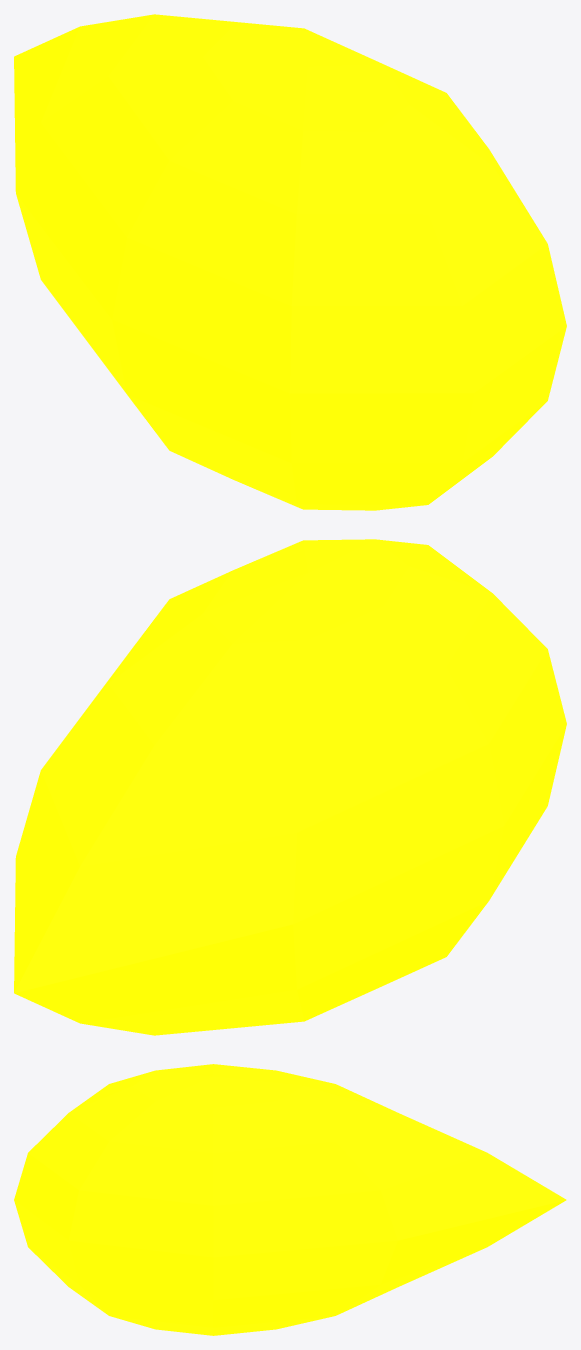
File: CannonBall.fbx
3 renders of one model, top to bottom at view 1: azimuth 30°, elevation 25°; view 2: azimuth 150°, elevation 25°; view 3: azimuth 270°, elevation 25°, orthographic. The views are drawn at different scales.
Visible parts, largest first — view 1: CannonBall; view 2: CannonBall; view 3: CannonBall.
Boxes of the visible parts, x1=… form: CannonBall: x1=14, y1=14, x2=566, y2=510; CannonBall: x1=14, y1=539, x2=566, y2=1035; CannonBall: x1=14, y1=1064, x2=566, y2=1335.
Size of the model in its own units: 74.27 by 151 by 74.27.
